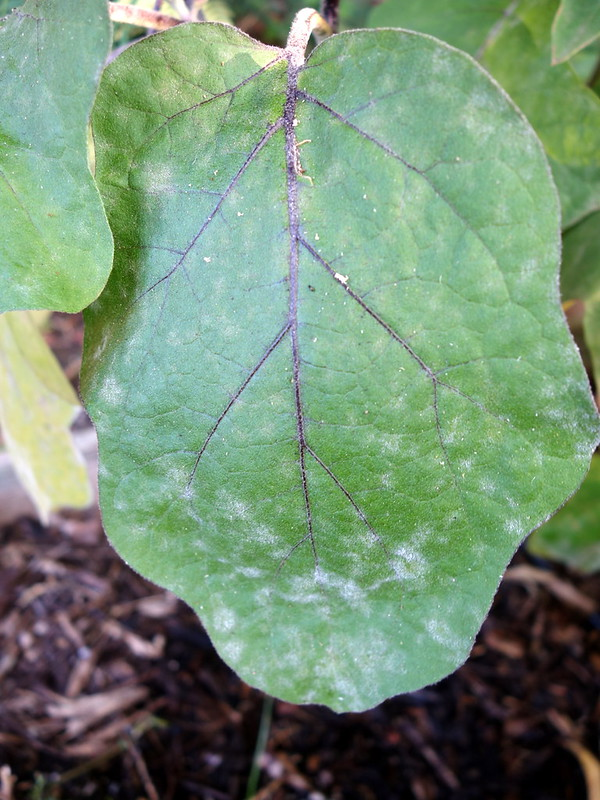Eggplant_PowderyMildew: (109, 44, 566, 711)
